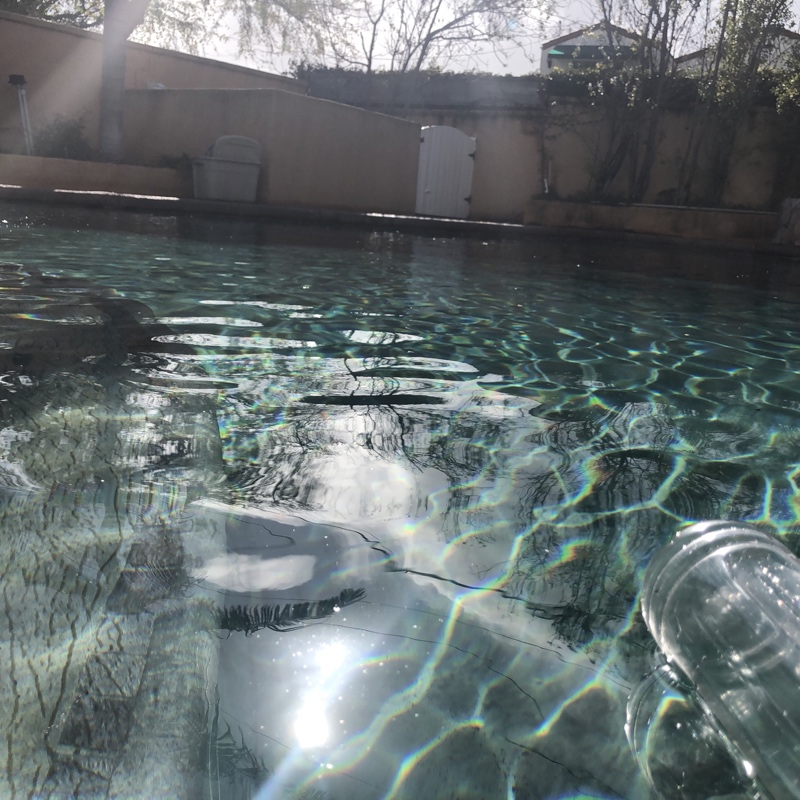Plastic Bottle: (632, 514, 800, 800)
